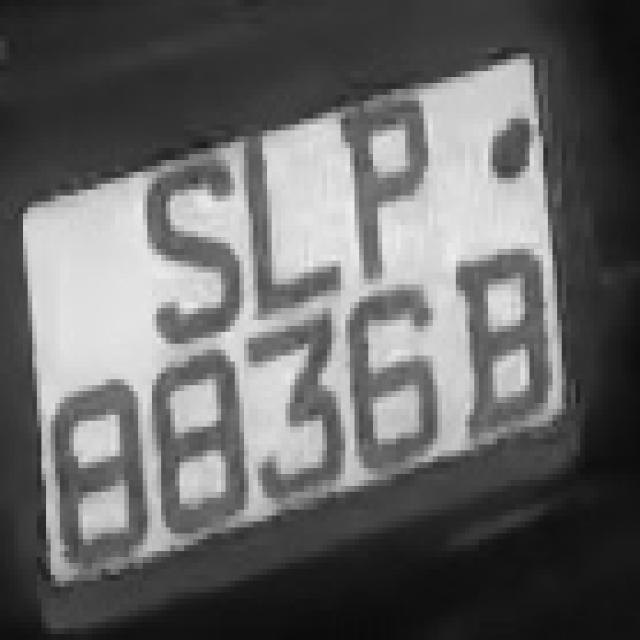3: (235, 296, 350, 504)
6: (341, 285, 442, 468)
8: (37, 368, 152, 598), (143, 350, 258, 551)
B: (456, 231, 562, 462)
L: (239, 107, 350, 326)
P: (341, 95, 437, 284)
S: (143, 136, 244, 350)
